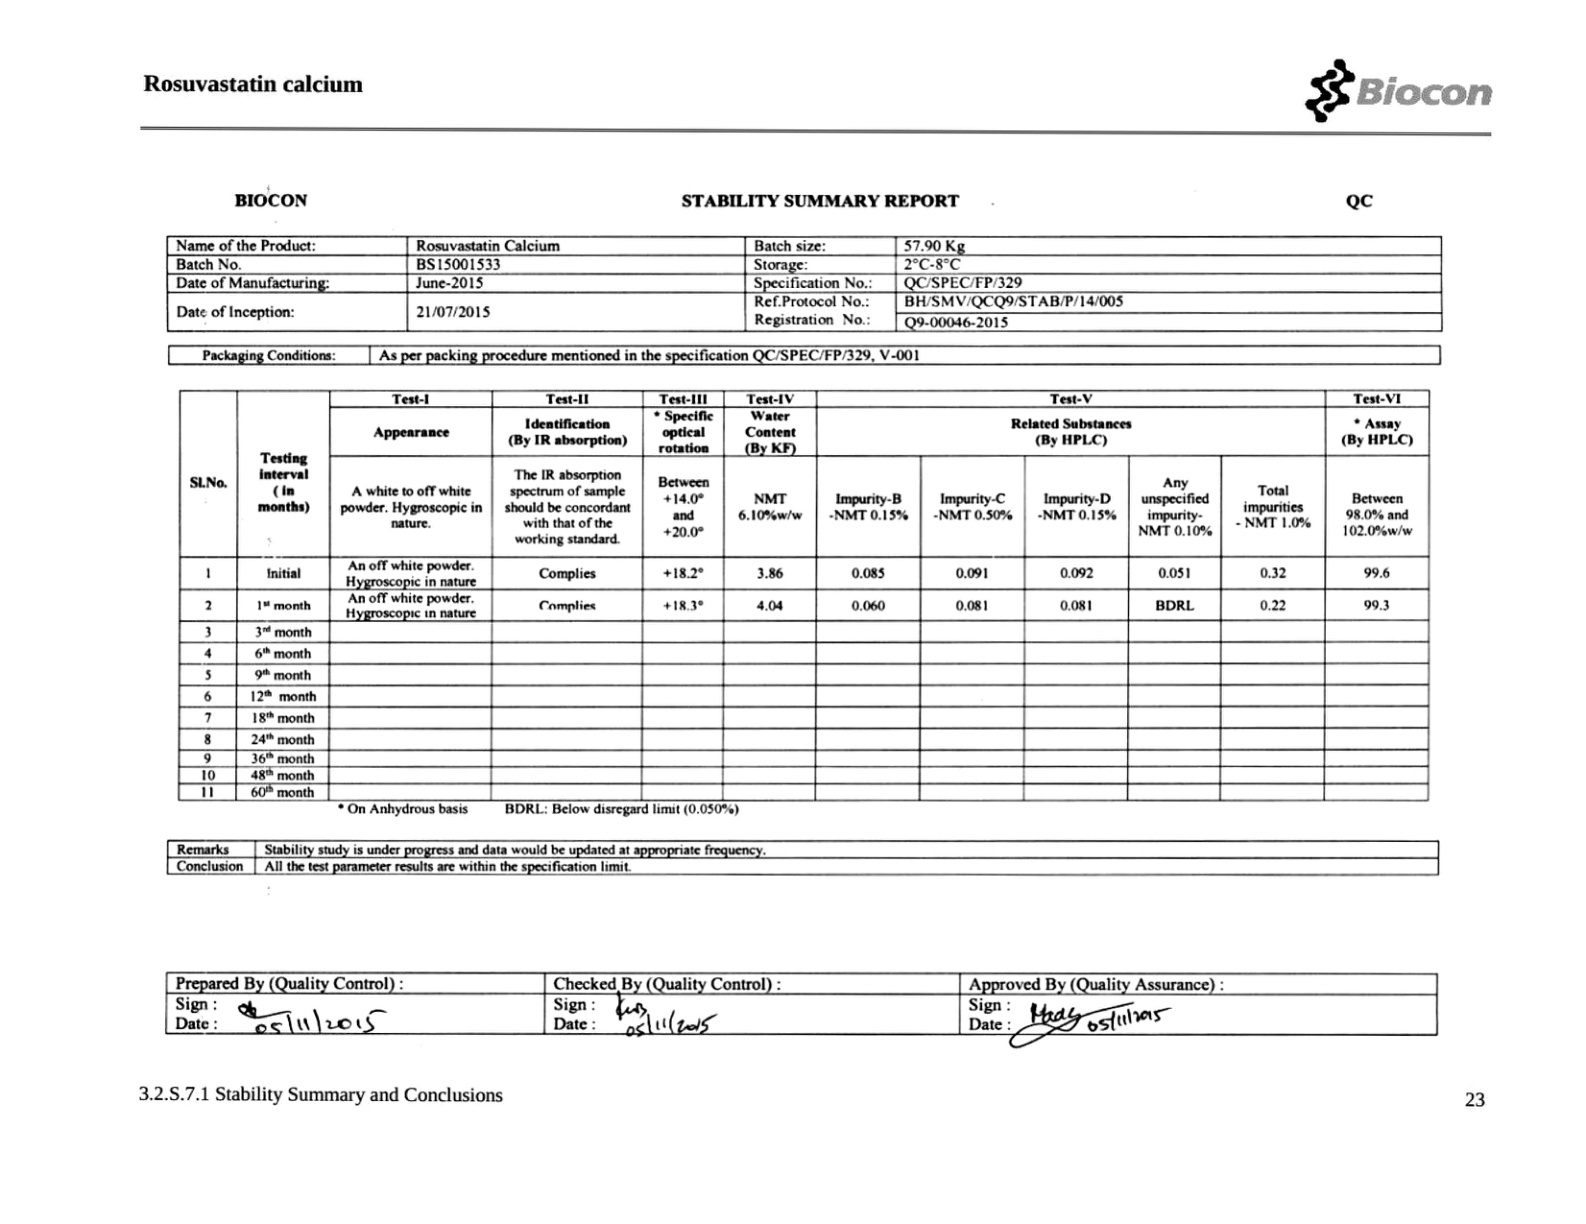full_lined: (163, 971, 1439, 1038), (166, 838, 1439, 877), (167, 343, 1443, 366)
merged_cells: (177, 390, 1430, 804), (165, 235, 1445, 332)
